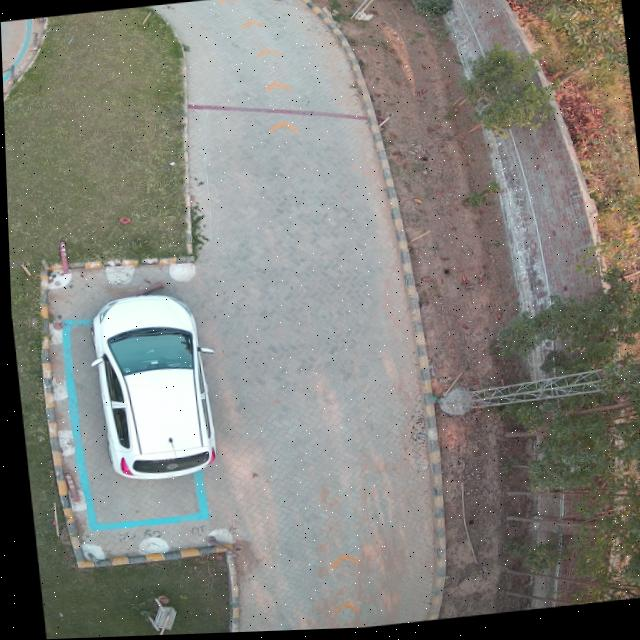car: (194, 348, 209, 355)
